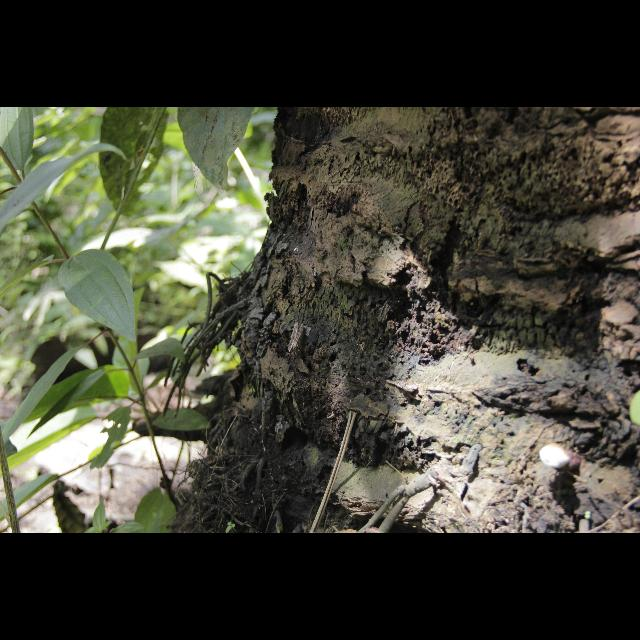primordium: (540, 445, 572, 474)
